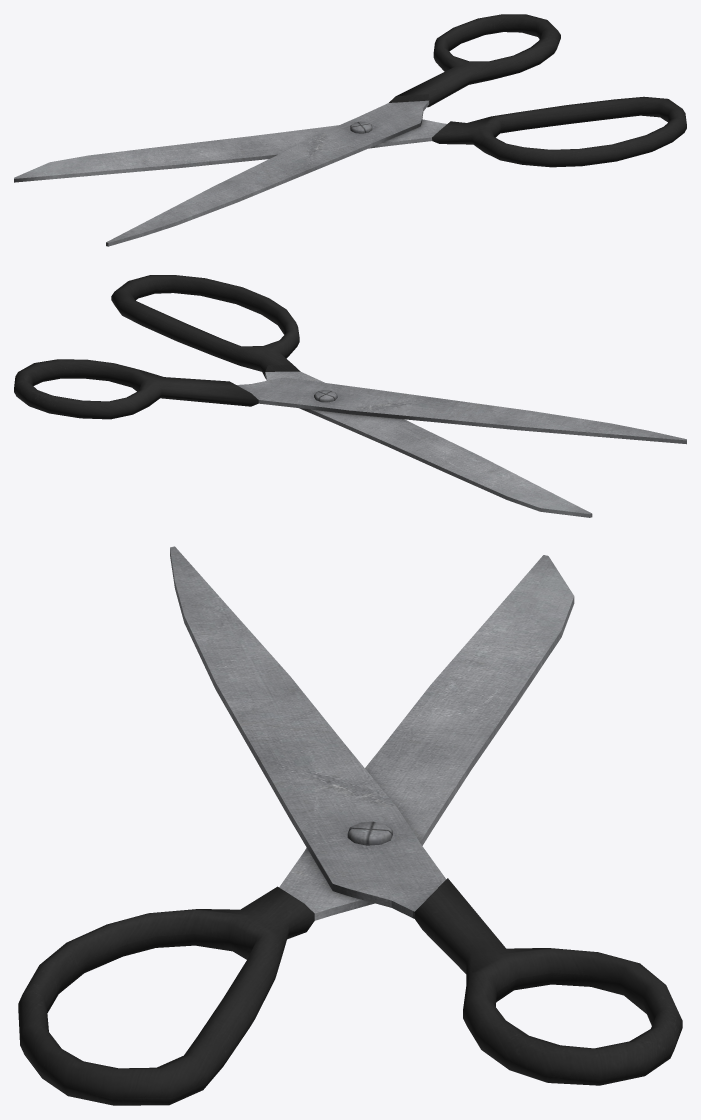
Rendered from scissors.FBX.
3 views of the same model, one above another, from view 1: azimuth 30°, elevation 25°; view 2: azimuth 150°, elevation 25°; view 3: azimuth 270°, elevation 25° (orthographic). The views are drawn at different scales.
Parts seen in each view (by area): view 1: scissors; view 2: scissors; view 3: scissors.
Boxes of the visible parts, x1=… form: scissors: x1=14, y1=14, x2=686, y2=246; scissors: x1=14, y1=275, x2=686, y2=517; scissors: x1=18, y1=546, x2=682, y2=1105.
Bounding box in the file's own units: 0.1931 × 0.00737 × 0.0985.
